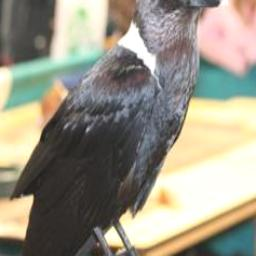Crow: (5, 0, 230, 256)
